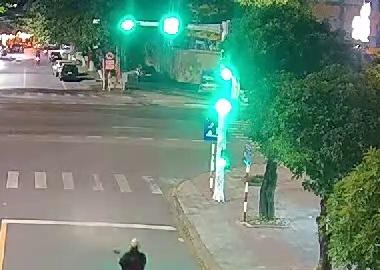green_light: (156, 15, 182, 37), (116, 14, 139, 36), (212, 97, 235, 118)
stop_line: (3, 219, 175, 230)
